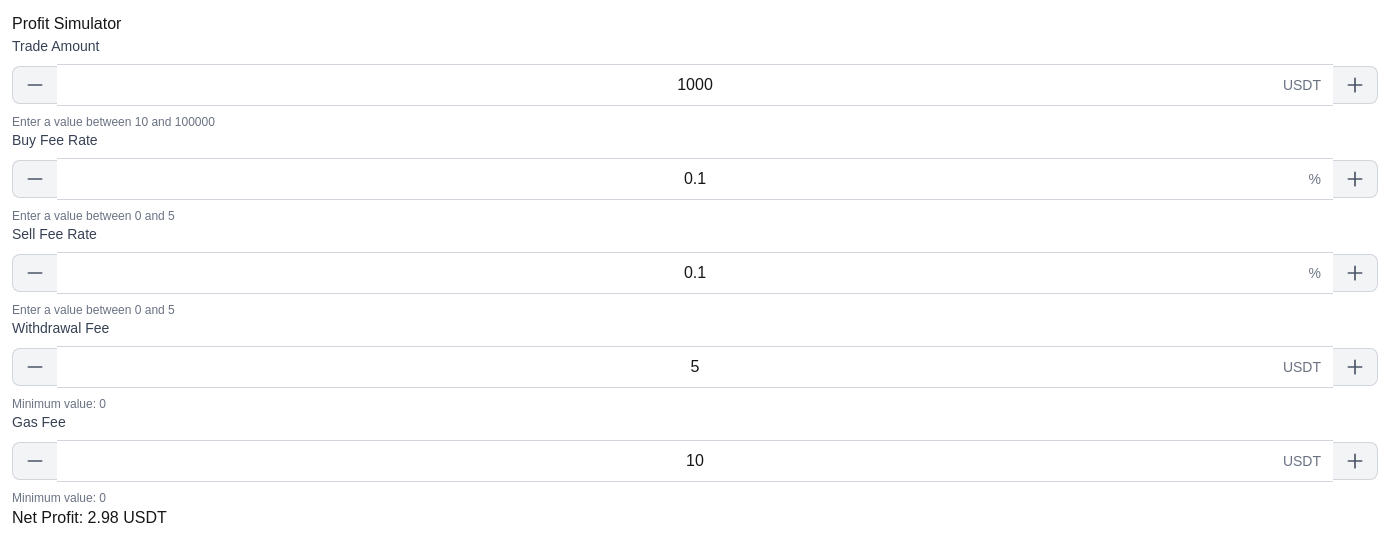
Test: AmountInput Integration Tests › Profit Simulator Form Integration › should respect validation constraints across all inputs
# Try to set trade amount below minimum
Replace the text in the field labelled "Trade Amount" with "5" at (695, 85), box 57,64 -> 1333,106
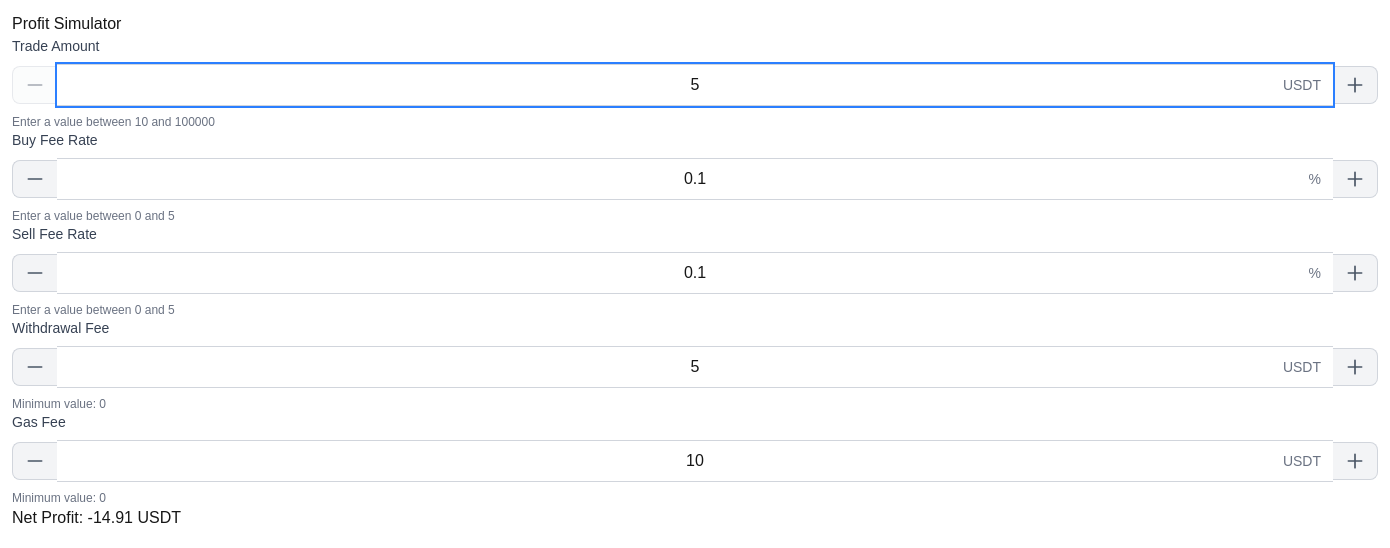
Press Tab
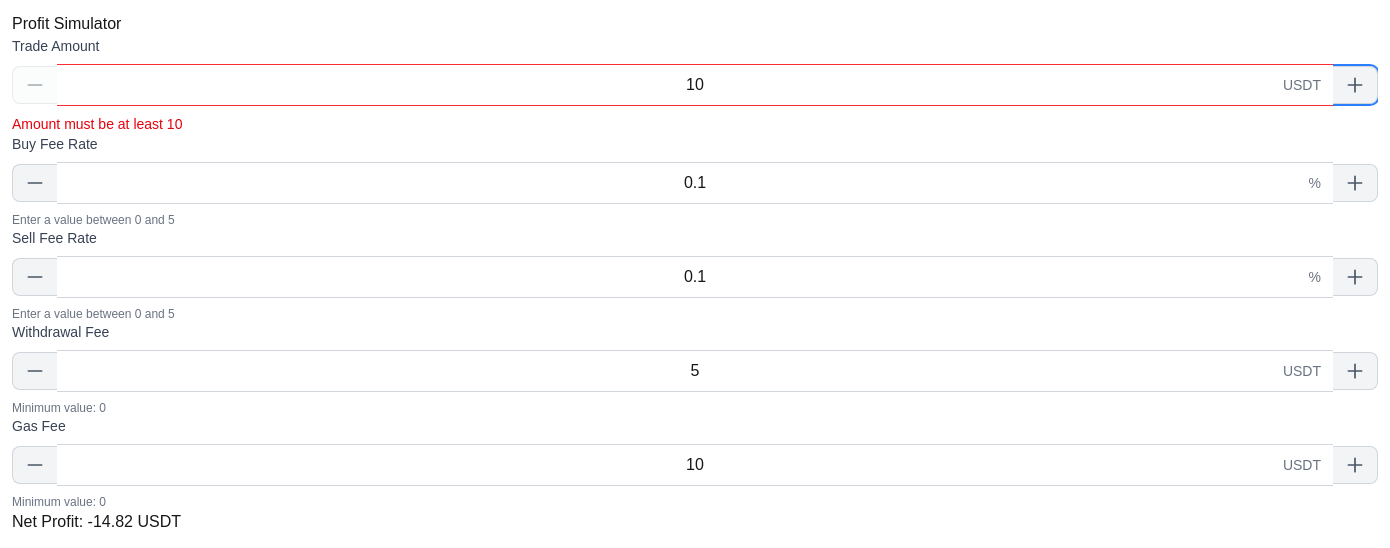
Expected: the text "Amount must be at least 10" is shown, 12,116 -> 182,132
# Try to set fee rate above maximum
Replace the text in the field labelled "Buy Fee Rate" with "10" at (695, 183), box 57,162 -> 1333,204
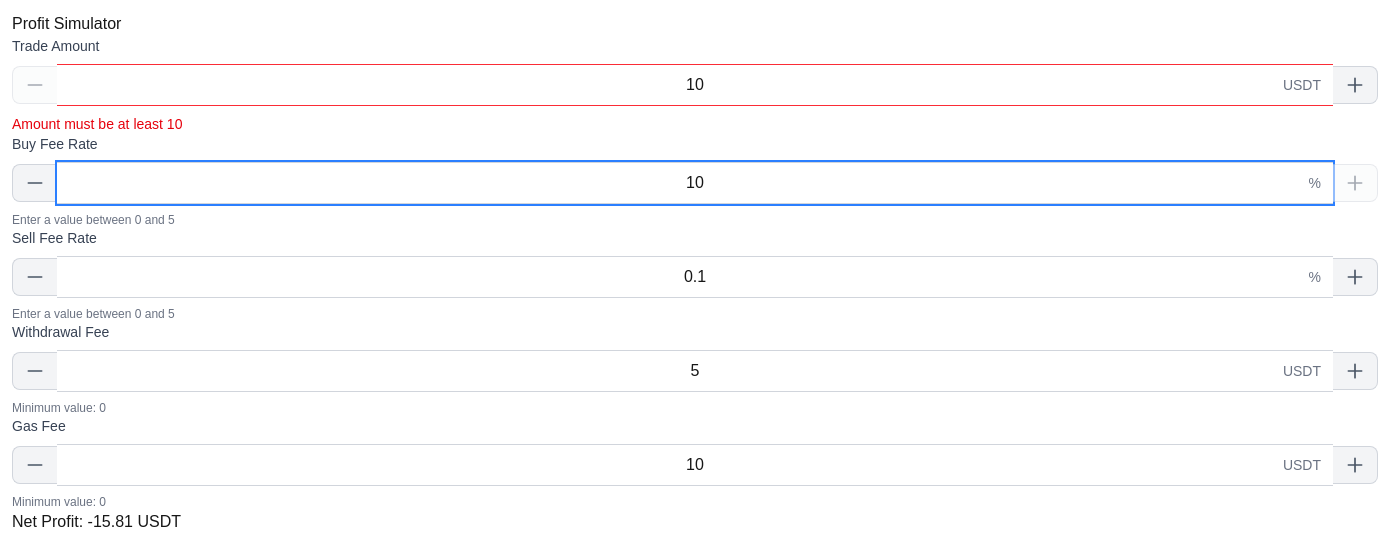
Press Tab
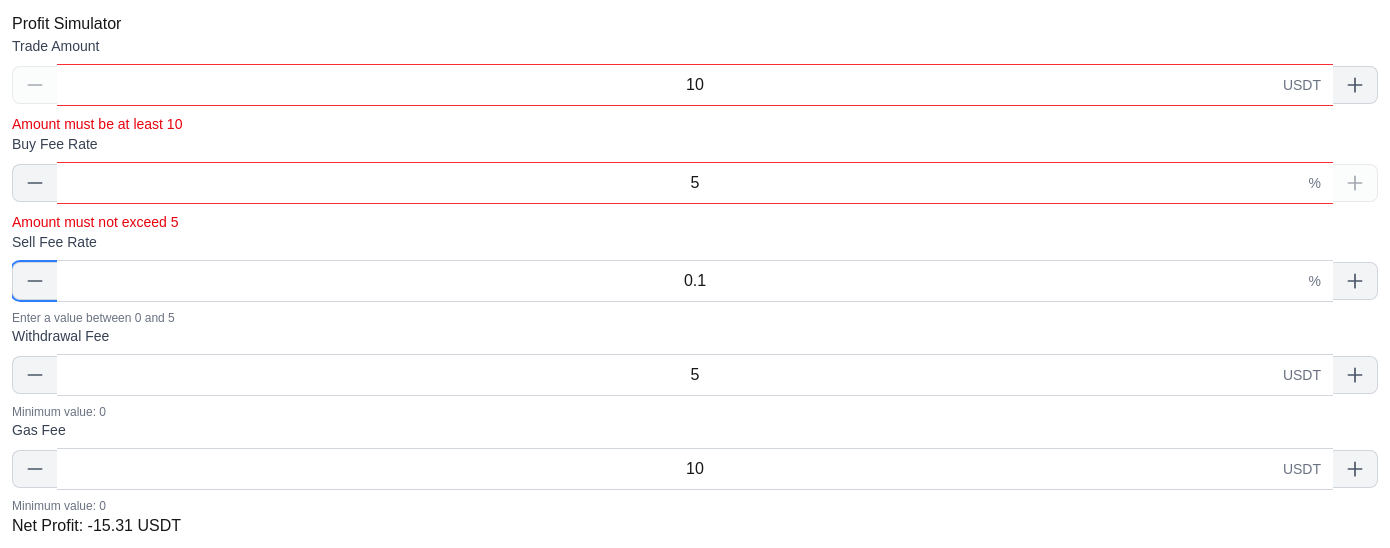
Expected: the text "Amount must not exceed 5" is shown, 12,214 -> 178,230
